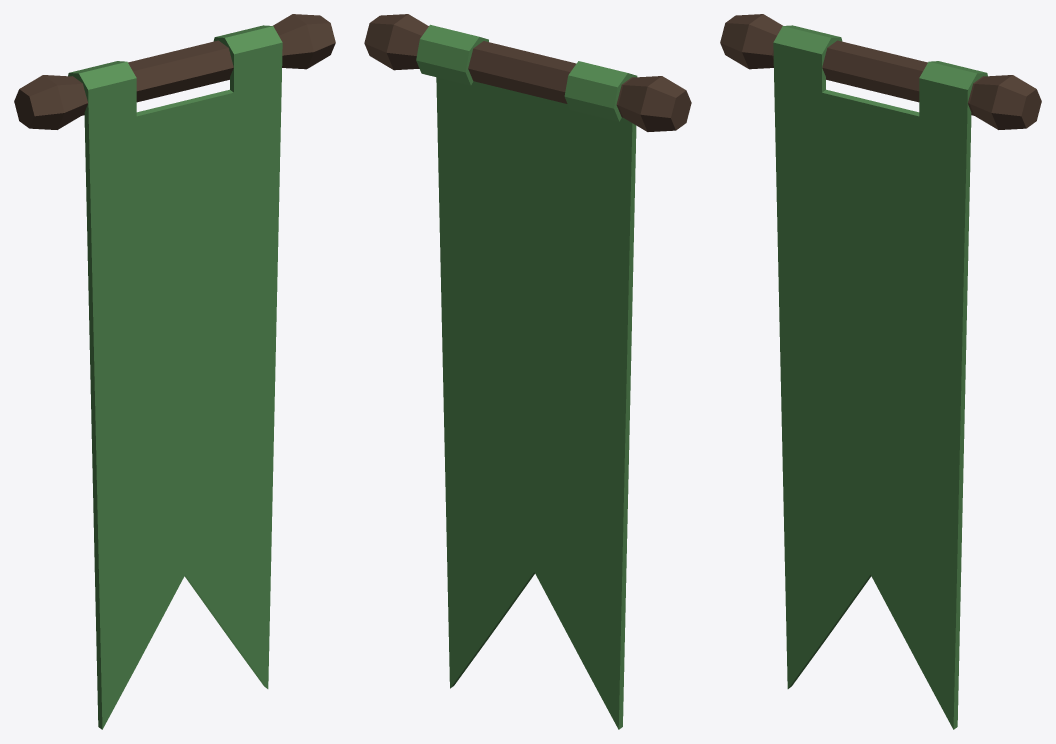
The model's file is banner_2.fbx.
3 renders of one model, left to right at view 1: azimuth 30°, elevation 25°; view 2: azimuth 150°, elevation 25°; view 3: azimuth 330°, elevation 25°, orthographic.
Visible parts, largest first — view 1: banner_2; view 2: banner_2; view 3: banner_2.
Part boxes in pixels (left/top/right/bottom): banner_2: left=14, top=14, right=335, bottom=729; banner_2: left=364, top=14, right=691, bottom=729; banner_2: left=720, top=14, right=1041, bottom=729.
Bounding box in the file's own units: 126 × 261 × 20.69.
